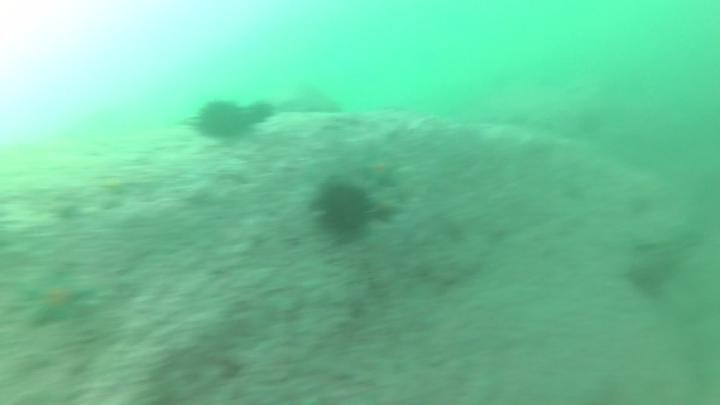echinus: (312, 180, 377, 240), (198, 98, 247, 145), (245, 100, 279, 126)
starfish: (22, 266, 93, 330), (360, 153, 406, 187)
